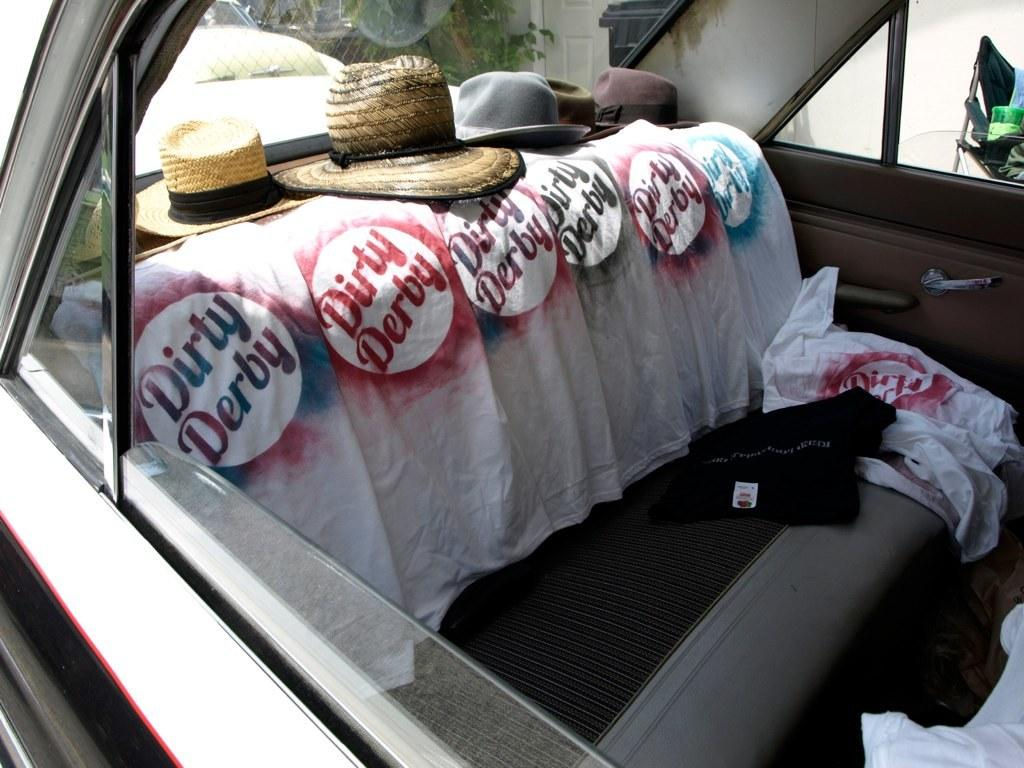Hat: (269, 50, 525, 200), (132, 116, 304, 236), (439, 62, 581, 144), (594, 60, 706, 128)
